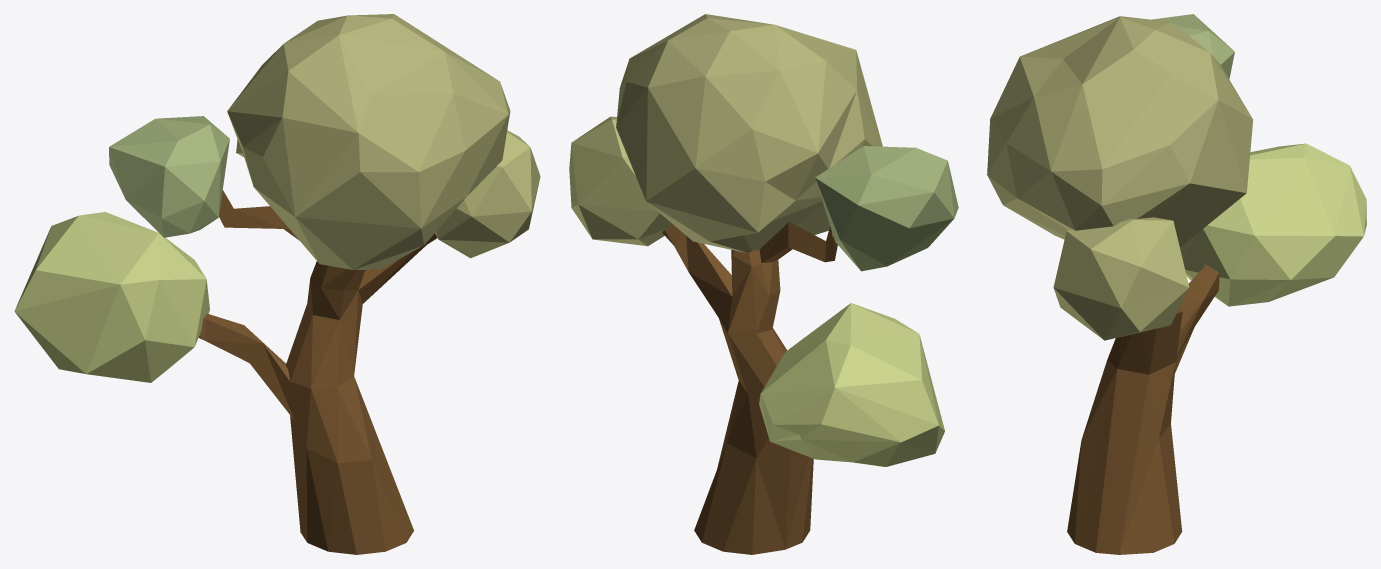
File: tree2_felix.fbx
The picture shows the model from 3 angles, left to right: view 1: azimuth 30°, elevation 25°; view 2: azimuth 150°, elevation 25°; view 3: azimuth 270°, elevation 25°; orthographic projection.
Parts seen in each view (by area): view 1: Icosphere.001, Cylinder.001, Icosphere.031, Icosphere.002, Cylinder.006, Icosphere; view 2: Icosphere.001, Cylinder.001, Icosphere.031, Icosphere.002, Icosphere, Cylinder.006; view 3: Icosphere.001, Cylinder.001, Icosphere.031, Icosphere, Cylinder.006, Icosphere.002.
Part boxes in pixels (x1,y1,x2,y2): Icosphere.001: (227, 14, 510, 269); Cylinder.001: (198, 190, 437, 554); Icosphere.031: (14, 212, 209, 382); Icosphere.002: (109, 116, 229, 237); Cylinder.006: (199, 191, 435, 554); Icosphere: (435, 130, 540, 258); Icosphere.001: (616, 14, 882, 252); Cylinder.001: (662, 222, 837, 554); Icosphere.031: (759, 303, 944, 466); Icosphere.002: (815, 146, 958, 271); Icosphere: (569, 116, 671, 246); Cylinder.006: (662, 223, 837, 554); Icosphere.001: (987, 16, 1253, 247); Cylinder.001: (1067, 264, 1219, 554); Icosphere.031: (1180, 143, 1366, 306); Icosphere: (1053, 217, 1189, 340); Cylinder.006: (1067, 267, 1218, 554); Icosphere.002: (1152, 14, 1234, 79).
Bounding box in the file's own units: 8.98 × 9.68 × 6.6.
